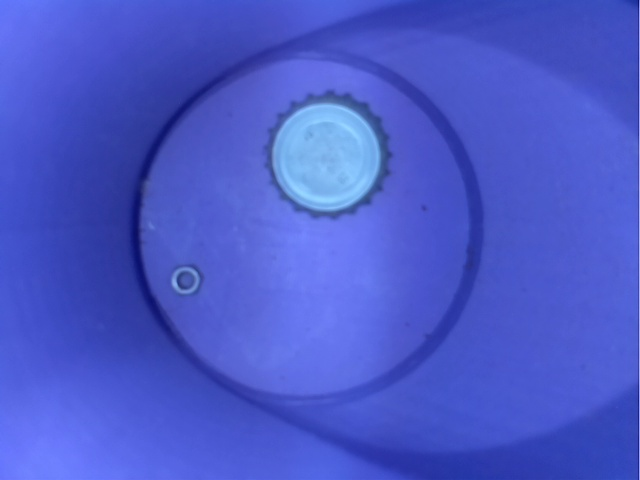capsule: (249, 85, 408, 223)
